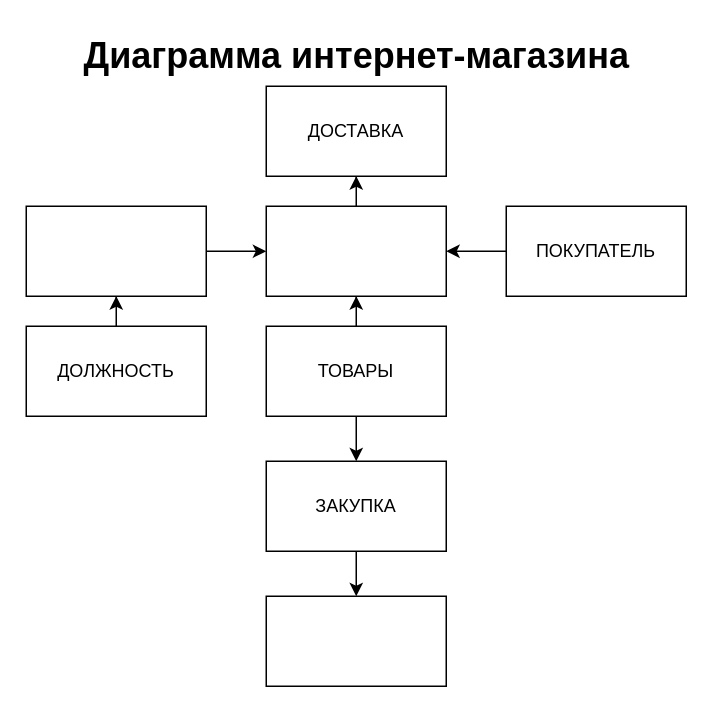
Image size: 713x713. Some labels were removed from this diagram. Each missing label, with the box of its shape:
ЗАКАЗ: (265, 205, 446, 296)
СКЛАД: (265, 595, 446, 686)
СОТРУДНИКИ: (25, 205, 206, 296)
